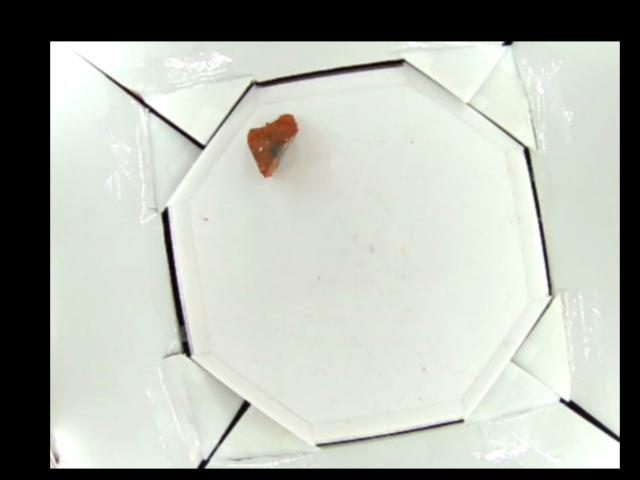Brisk: (246, 114, 298, 175)
